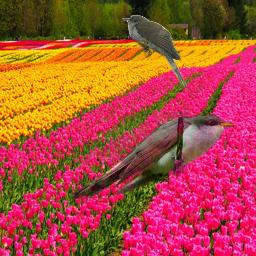Cuckoo: (67, 112, 233, 199), (122, 15, 187, 89)
